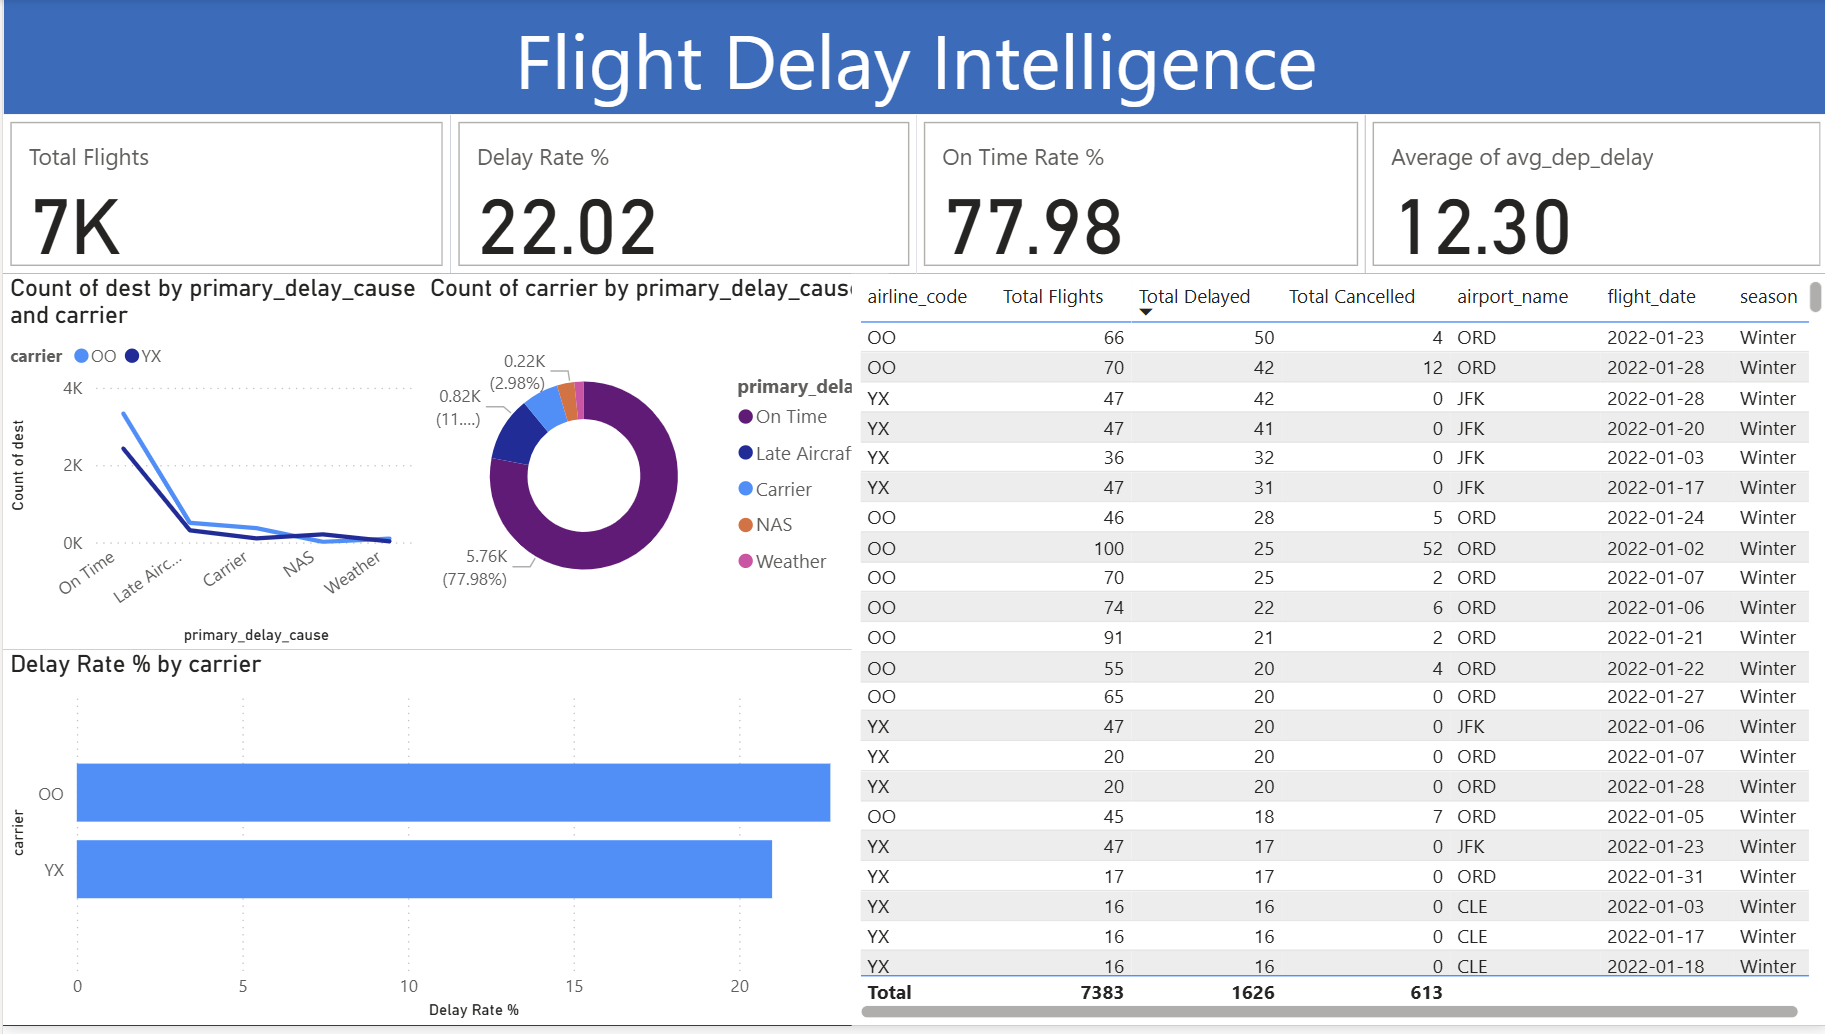

Layout of this report page (visuals, bound fields, positions):
{"tool":"powerbi","page":{"name":"Executive Summary","canvas":[1280,720],"ordinal":0},"visuals":[{"type":"textbox","box":[0,0,1280,80.9],"z":0},{"type":"cardVisual","fields":{"Data":["dim_airline.Total Flights"]},"box":[0,80.9,313.9,111.6],"z":1000},{"type":"cardVisual","fields":{"Data":["dim_airline.Delay Rate %"]},"box":[313.9,80.9,326.1,111.6],"z":2000},{"type":"cardVisual","fields":{"Data":["dim_airline.On Time Rate %"]},"box":[640,80.9,315.1,111.6],"z":3000},{"type":"cardVisual","fields":{"Data":["Avg(dim_airline.avg_dep_delay)"]},"box":[955.1,80.9,324.9,111.6],"z":4000},{"type":"barChart","fields":{"Y":["dim_airline.Delay Rate %"],"Category":["fact_flight_delays.carrier"]},"box":[0,456.1,620.4,263.6],"z":5000},{"type":"lineChart","fields":{"Category":["fact_flight_delays.primary_delay_cause"],"Y":["CountNonNull(fact_flight_delays.dest)"],"Series":["fact_flight_delays.carrier"]},"box":[0,192.5,294.3,263.6],"z":6000},{"type":"donutChart","fields":{"Category":["fact_flight_delays.primary_delay_cause"],"Y":["CountNonNull(fact_flight_delays.carrier)"]},"box":[294.3,192.5,326.1,263.6],"z":7000},{"type":"tableEx","fields":{"Values":["dim_airline.airline_code","dim_airline.Total Flights","dim_airline.Total Delayed","dim_airline.Total Cancelled","dim_airport.airport_name","fact_flight_delays.flight_date","fact_flight_delays.season"]},"box":[594.6,192.5,685.4,527.2],"z":8000}]}

Visuals, with their boxes in screenshot pixels (x1, y1, x2, y2), scaled from the page's 1280x720 canvas onto the 1825x1034 screenshot:
textbox: {"left": 0, "top": 0, "right": 1824, "bottom": 116}
cardVisual - dim_airline.Total Flights: {"left": 0, "top": 116, "right": 448, "bottom": 276}
cardVisual - dim_airline.Delay Rate %: {"left": 448, "top": 116, "right": 912, "bottom": 276}
cardVisual - dim_airline.On Time Rate %: {"left": 912, "top": 116, "right": 1362, "bottom": 276}
cardVisual - Avg(dim_airline.avg_dep_delay): {"left": 1362, "top": 116, "right": 1824, "bottom": 276}
barChart - dim_airline.Delay Rate % x fact_flight_delays.carrier: {"left": 0, "top": 655, "right": 885, "bottom": 1033}
lineChart - fact_flight_delays.primary_delay_cause x CountNonNull(fact_flight_delays.dest): {"left": 0, "top": 276, "right": 420, "bottom": 655}
donutChart - fact_flight_delays.primary_delay_cause x CountNonNull(fact_flight_delays.carrier): {"left": 420, "top": 276, "right": 885, "bottom": 655}
tableEx - dim_airline.airline_code x dim_airline.Total Flights: {"left": 848, "top": 276, "right": 1824, "bottom": 1033}
